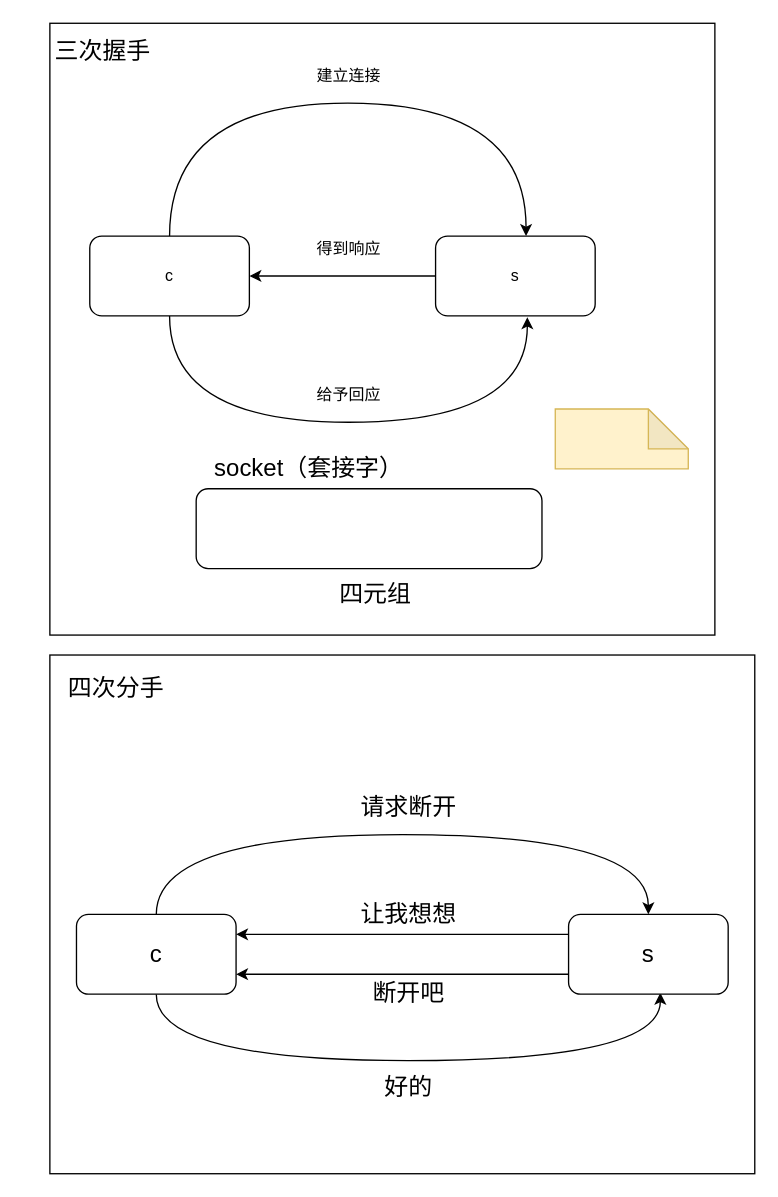
This 778x1197 diagram has some shape labels left out. Each missing label, with the box of its shape:
ip:prot --- ip:port: (195, 487, 542, 569)
prot 65535: (554, 408, 688, 469)
